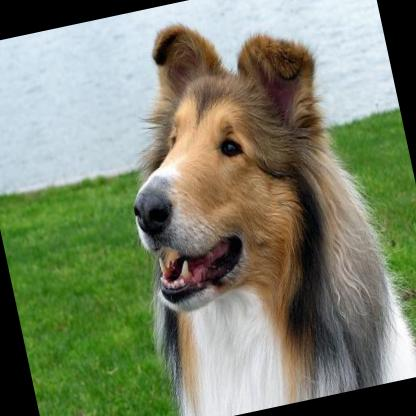collie: (84, 0, 416, 416)
